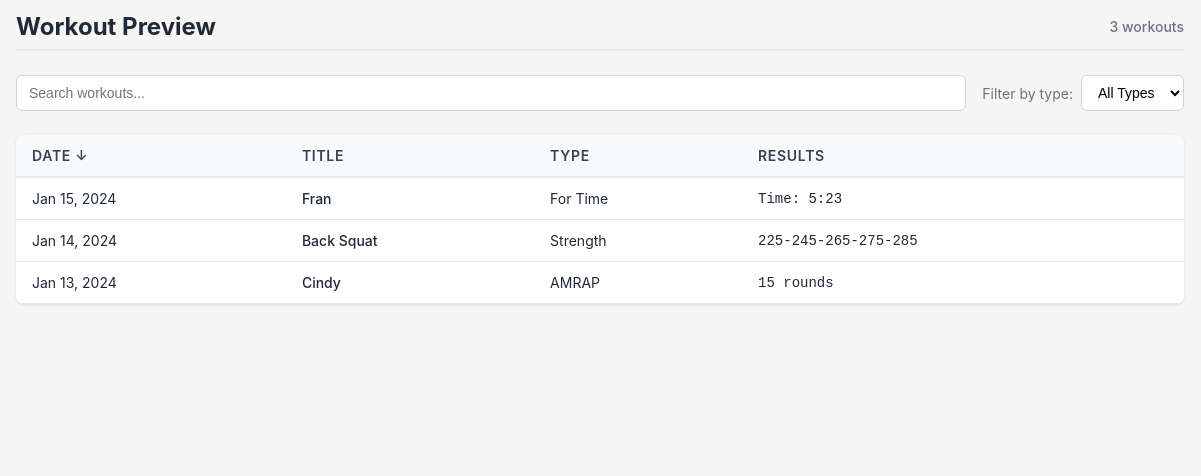
Test: ExportPreview › Row Expansion › should expand row to show workout details on click
Expected: the text "Fran" is shown, [302,190,332,207]
Click the text "Fran".
click(600, 198)  # box [16,177,1184,220]
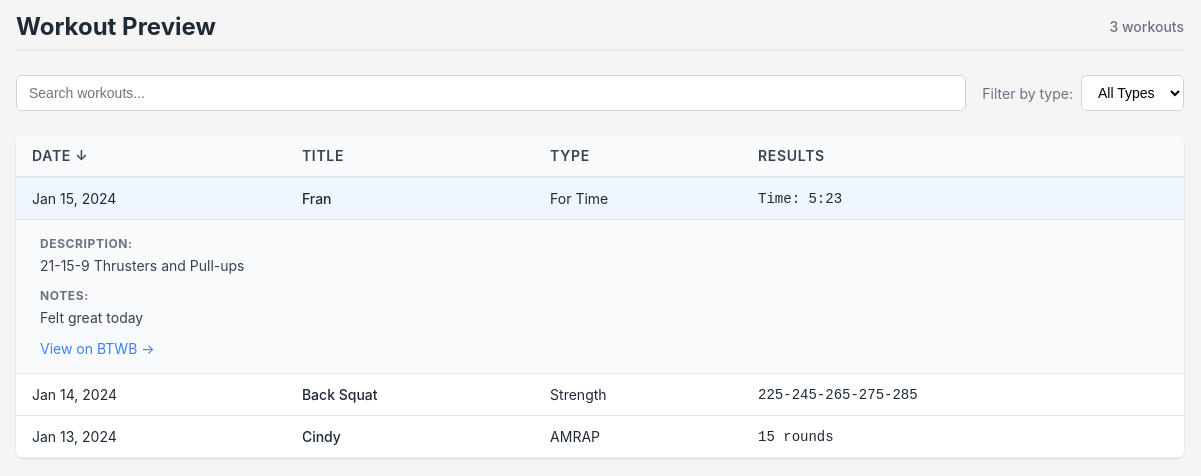
Now the text "21-15-9 Thrusters and Pull-ups" is shown, box [40,257,244,274]
Now the text "Felt great today" is shown, box [40,309,143,326]
